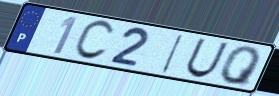1: (52, 15, 79, 56)
2: (108, 26, 151, 71)
C: (71, 19, 116, 62)
I: (159, 33, 186, 75)
Q: (219, 46, 263, 88)
U: (183, 37, 231, 79)
